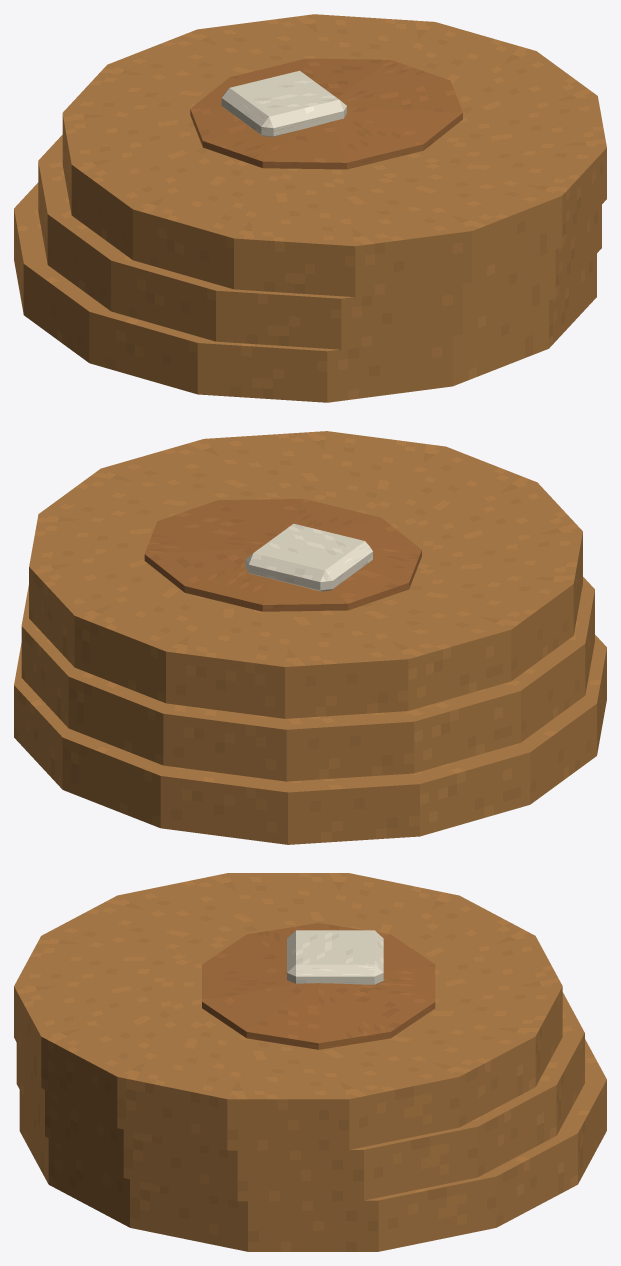
File: pancakes.glb
3 views of the same model, one above another, from view 1: azimuth 30°, elevation 25°; view 2: azimuth 150°, elevation 25°; view 3: azimuth 270°, elevation 25° (orthographic). The views are drawn at different scales.
Parts seen in each view (by area): view 1: block_fluffy pancake (×3), block_maple syrup, block_butter pat; view 2: block_fluffy pancake (×3), block_maple syrup, block_butter pat; view 3: block_fluffy pancake (×3), block_maple syrup, block_butter pat.
Part boxes in pixels (x1,y1,x2,y2): block_fluffy pancake (×3): (14, 14, 606, 402); block_maple syrup: (190, 58, 462, 169); block_butter pat: (221, 70, 346, 136); block_fluffy pancake (×3): (14, 431, 606, 844); block_maple syrup: (144, 499, 421, 611); block_butter pat: (245, 523, 372, 591); block_fluffy pancake (×3): (14, 873, 606, 1251); block_maple syrup: (202, 923, 435, 1049); block_butter pat: (287, 930, 383, 984).
Bounding box in the file's own units: 0.0776 × 0.0267 × 0.0803.
1 material, 1 textured.
